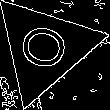O_E: (13, 20, 77, 77)
